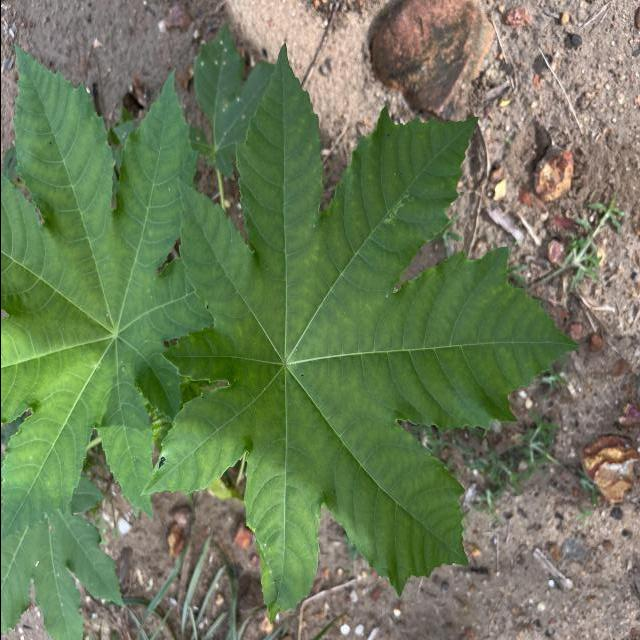Ricinus communis linn: (133, 38, 583, 632)
